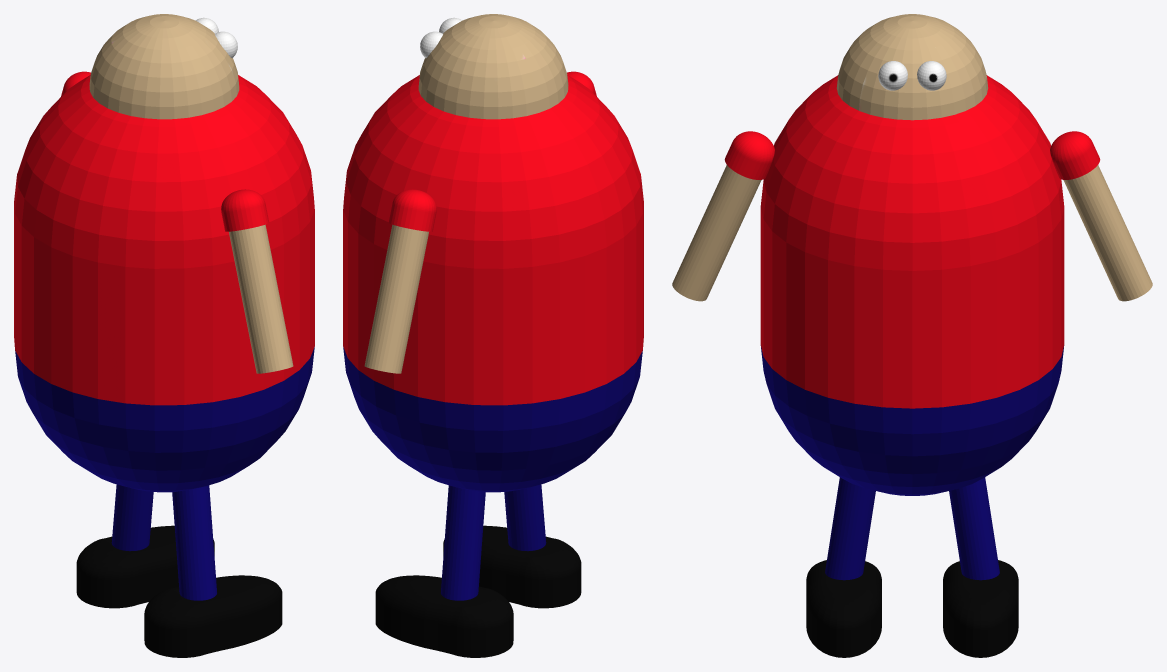
Rendered from Fatman.gltf.
3 renders of one model, left to right at view 1: azimuth 30°, elevation 25°; view 2: azimuth 150°, elevation 25°; view 3: azimuth 270°, elevation 25°, orthographic.
Visible parts, largest first — view 1: UpperBody, MidBody, LowerBody, Head, RightShoe, LeftShoe, RightArm, RightLowerLeg, LeftLowerLeg, RightShoulder; view 2: UpperBody, MidBody, LowerBody, Head, LeftShoe, RightShoe, LeftArm, LeftLowerLeg, RightLowerLeg, LeftShoulder; view 3: UpperBody, MidBody, LowerBody, Head, LeftShoe, RightShoe, LeftArm, RightArm, RightLowerLeg, LeftLowerLeg, RightShoulder, LeftShoulder (+2 smaller).
Boxes of the visible parts, box(x1,y1,x2,y2) form: UpperBody: box(14, 75, 314, 268); MidBody: box(14, 202, 314, 405); LowerBody: box(15, 347, 314, 492); Head: box(89, 14, 239, 119); RightShoe: box(144, 575, 282, 657); LeftShoe: box(76, 525, 214, 608); RightArm: box(229, 224, 293, 373); RightLowerLeg: box(172, 485, 216, 600); LeftLowerLeg: box(111, 484, 153, 551); RightShoulder: box(221, 189, 269, 231); UpperBody: box(343, 75, 643, 268); MidBody: box(343, 202, 643, 405); LowerBody: box(343, 347, 642, 492); Head: box(418, 14, 568, 119); LeftShoe: box(375, 575, 513, 657); RightShoe: box(443, 525, 581, 608); LeftArm: box(364, 224, 428, 373); LeftLowerLeg: box(441, 485, 485, 600); RightLowerLeg: box(504, 484, 546, 551); LeftShoulder: box(388, 189, 436, 231); UpperBody: box(760, 75, 1064, 270); MidBody: box(760, 208, 1064, 408); LowerBody: box(760, 345, 1064, 495); Head: box(836, 14, 988, 120); LeftShoe: box(943, 560, 1018, 657); RightShoe: box(806, 560, 881, 657); LeftArm: box(1063, 165, 1152, 301); RightArm: box(672, 165, 761, 301); RightLowerLeg: box(825, 477, 875, 580); LeftLowerLeg: box(949, 477, 999, 580); RightShoulder: box(724, 131, 774, 179); LeftShoulder: box(1050, 131, 1100, 179).
Bounding box in the file's own units: 4 × 8.67 × 6.33.
11 materials, 11 textured.
